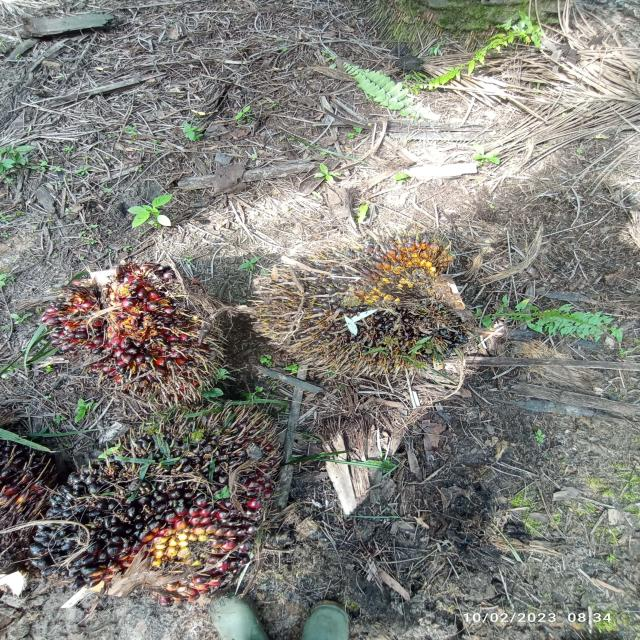fraksi 00: (231, 208, 502, 387), (21, 431, 284, 610)
fraksi 1: (18, 235, 289, 397)
